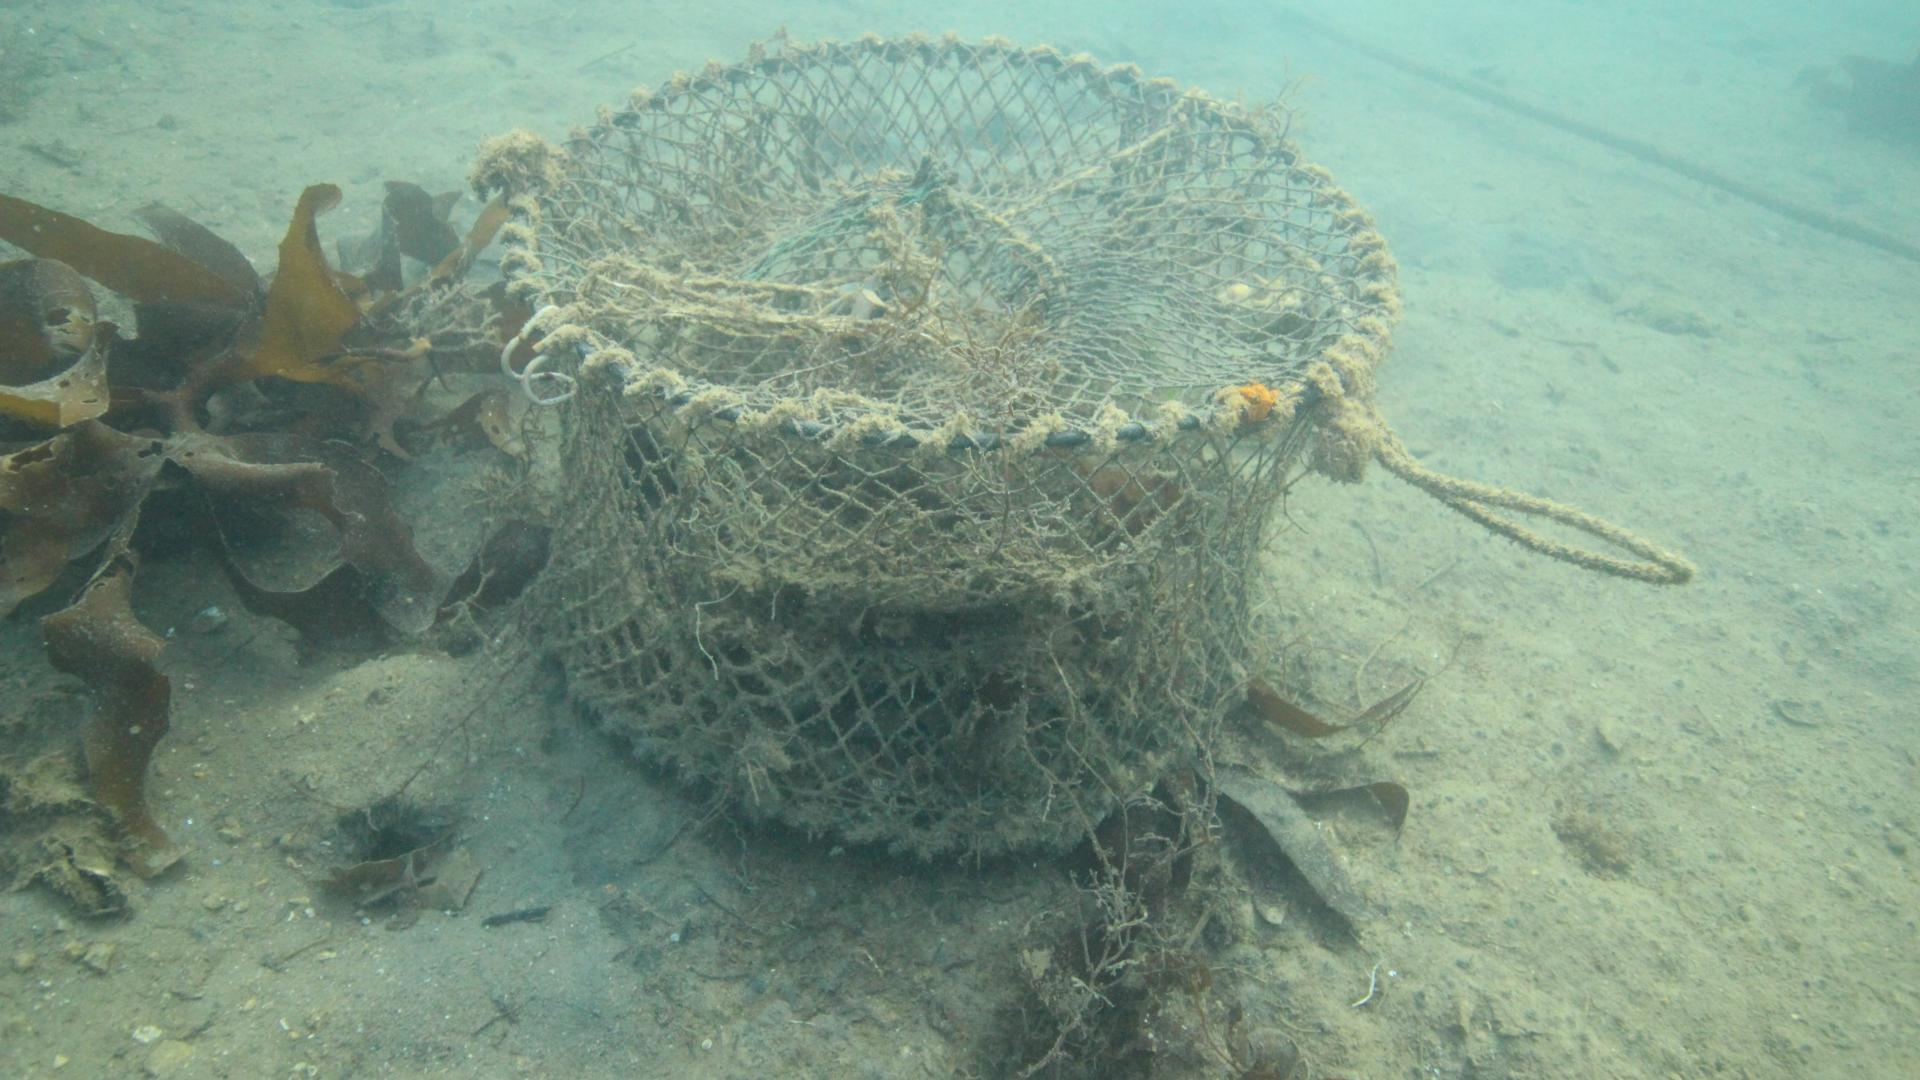circular fish trap: (501, 33, 1400, 860)
rope: (1375, 425, 1697, 588)
